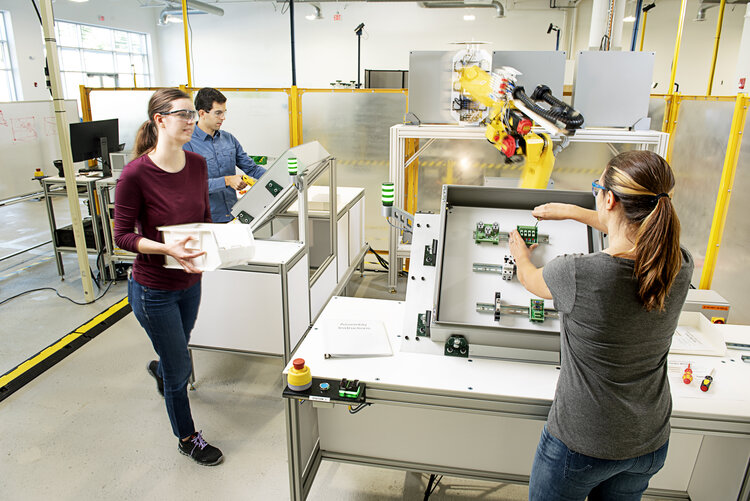person: (508, 150, 696, 501), (111, 88, 226, 465), (180, 86, 277, 224)
robot: (452, 64, 587, 192)
